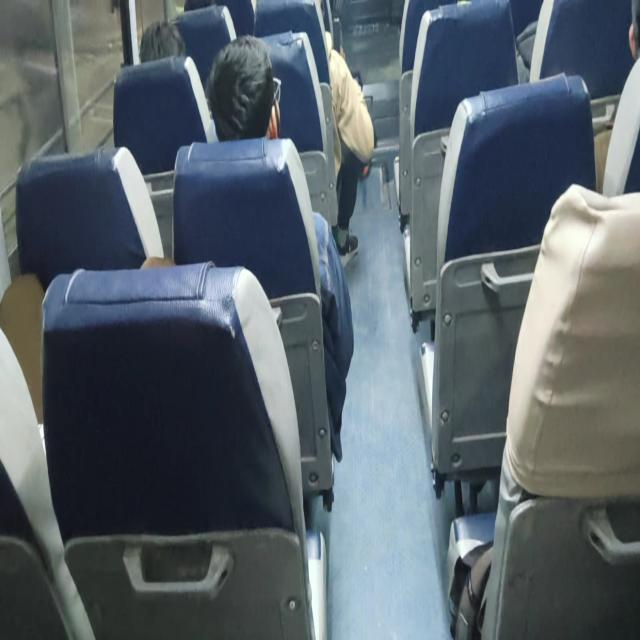person: (204, 34, 355, 462), (254, 1, 376, 267), (324, 29, 375, 267), (594, 0, 640, 196), (205, 34, 281, 141), (139, 19, 186, 62)
